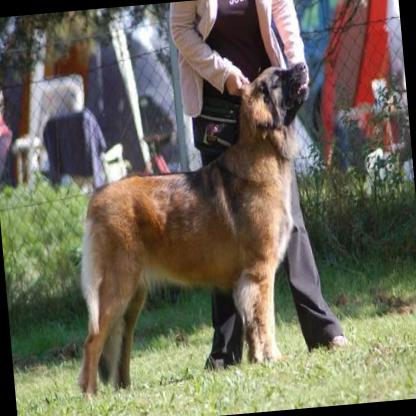Leonberg: (53, 58, 334, 395)
